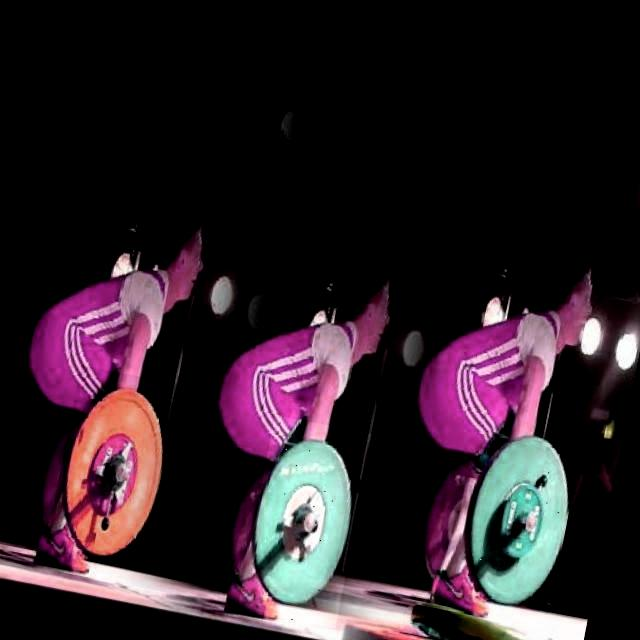barbell: (45, 367, 190, 575), (237, 417, 374, 630), (452, 415, 590, 620)
